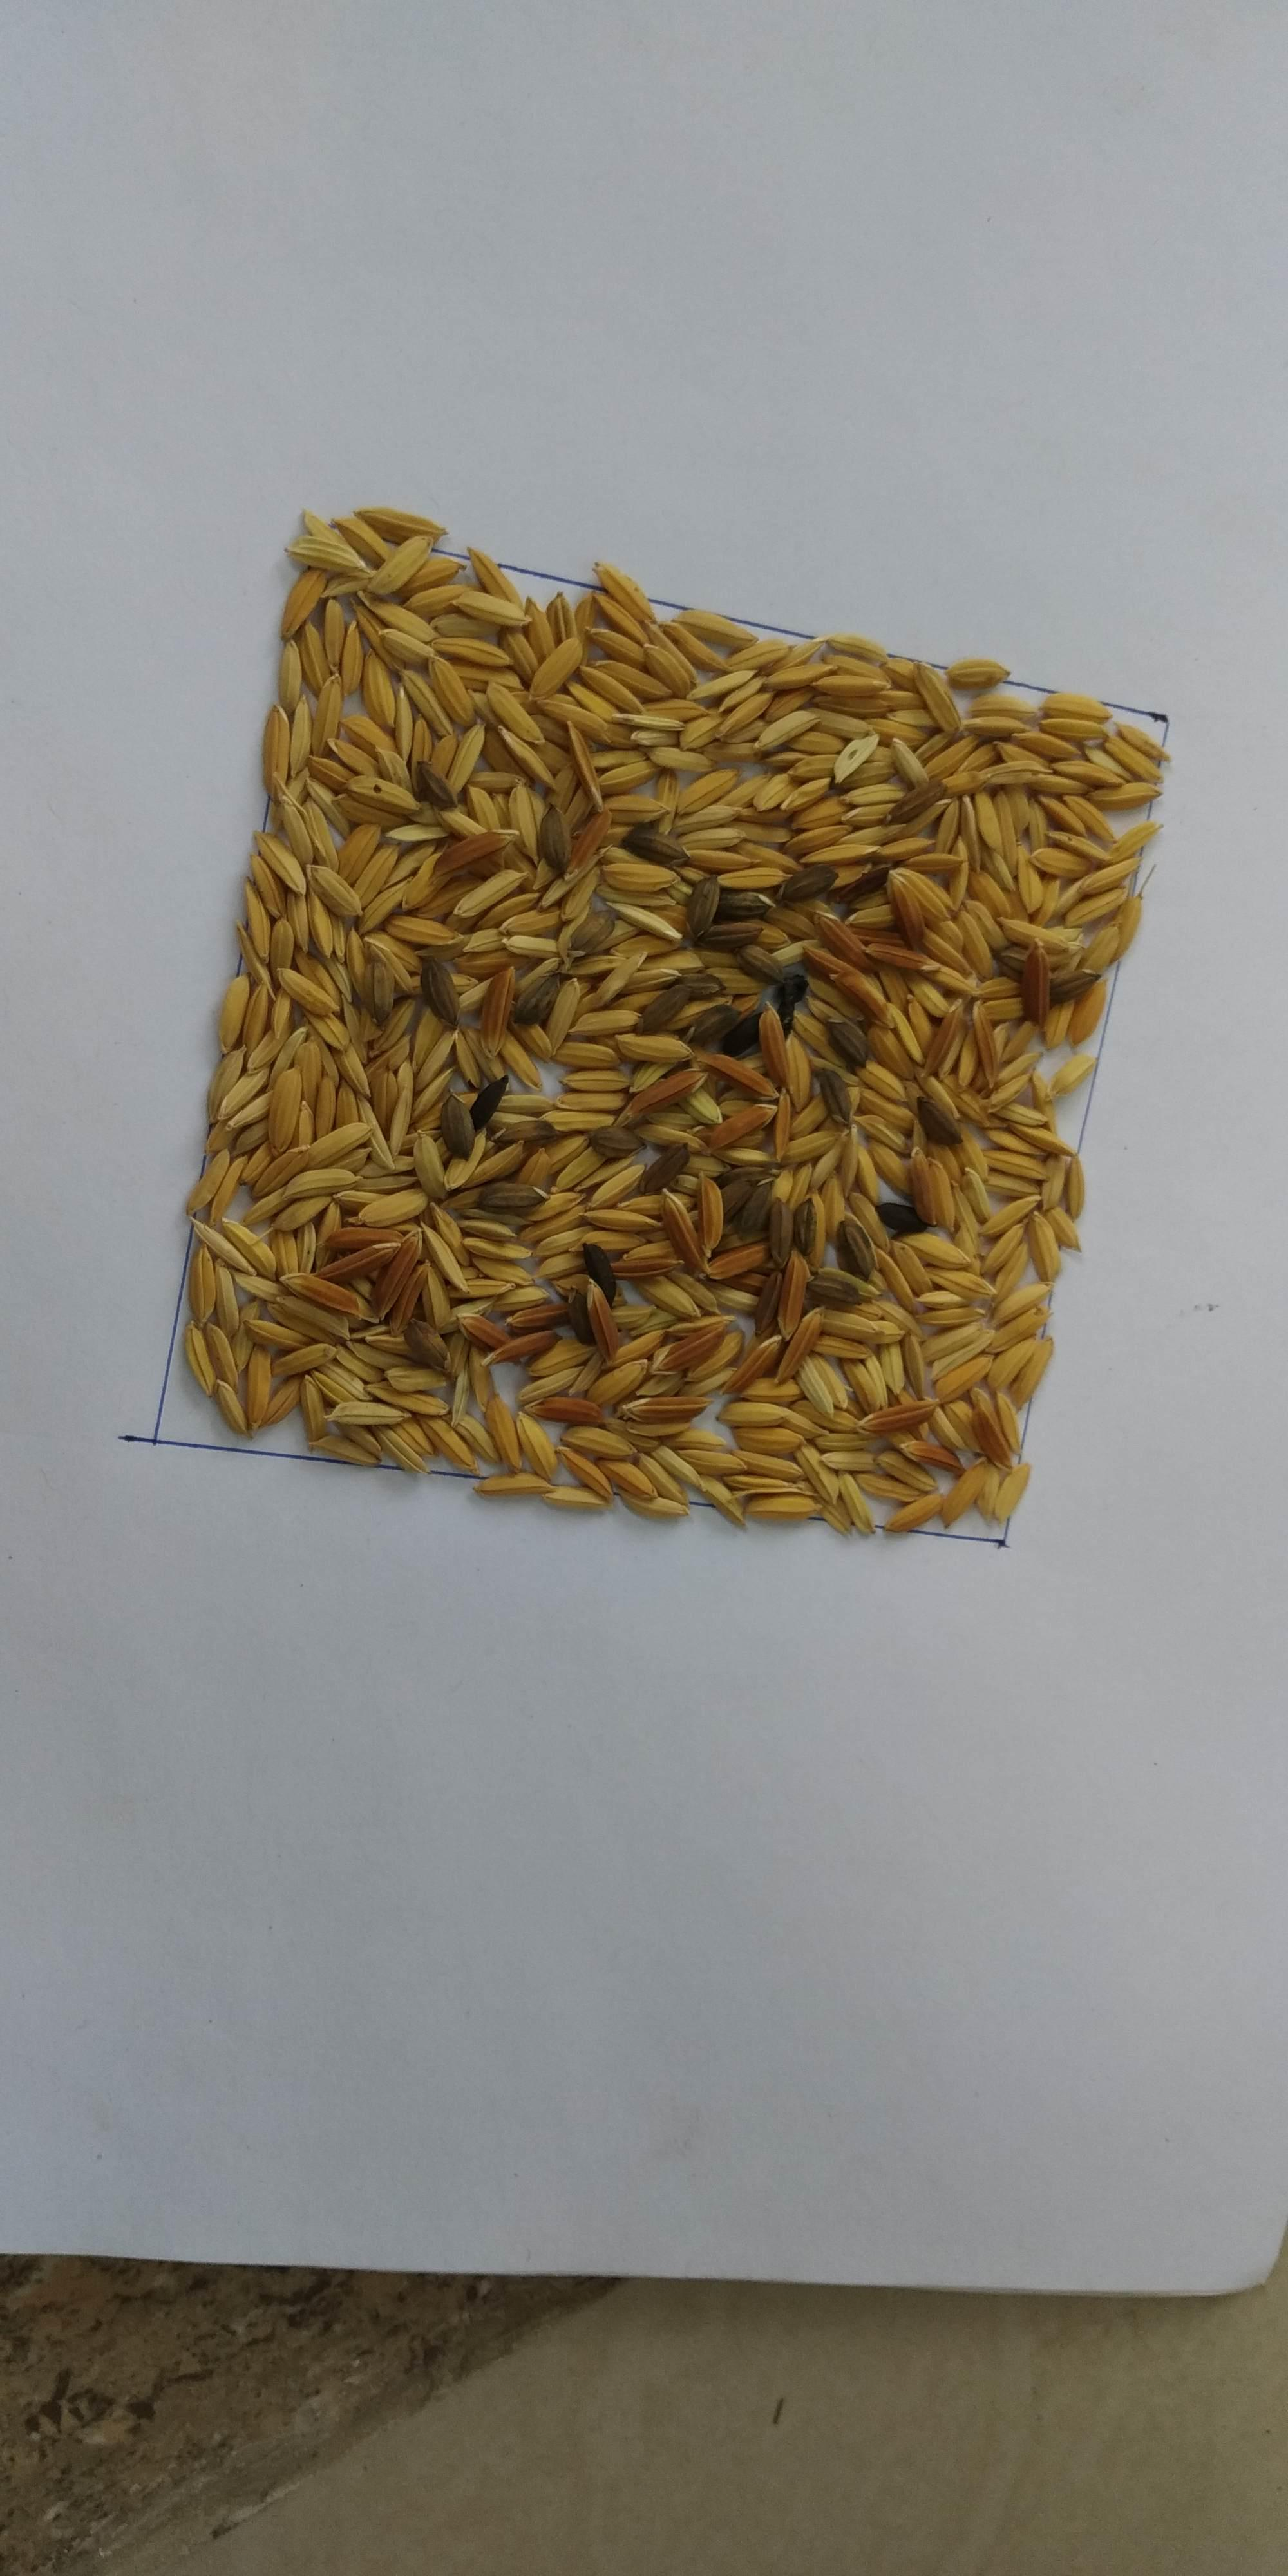impure: (286, 706, 1019, 1434)
